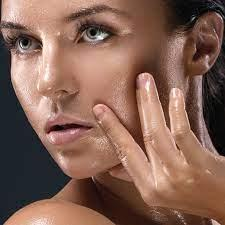Oily-Skin: (14, 61, 51, 119), (30, 7, 66, 53)
